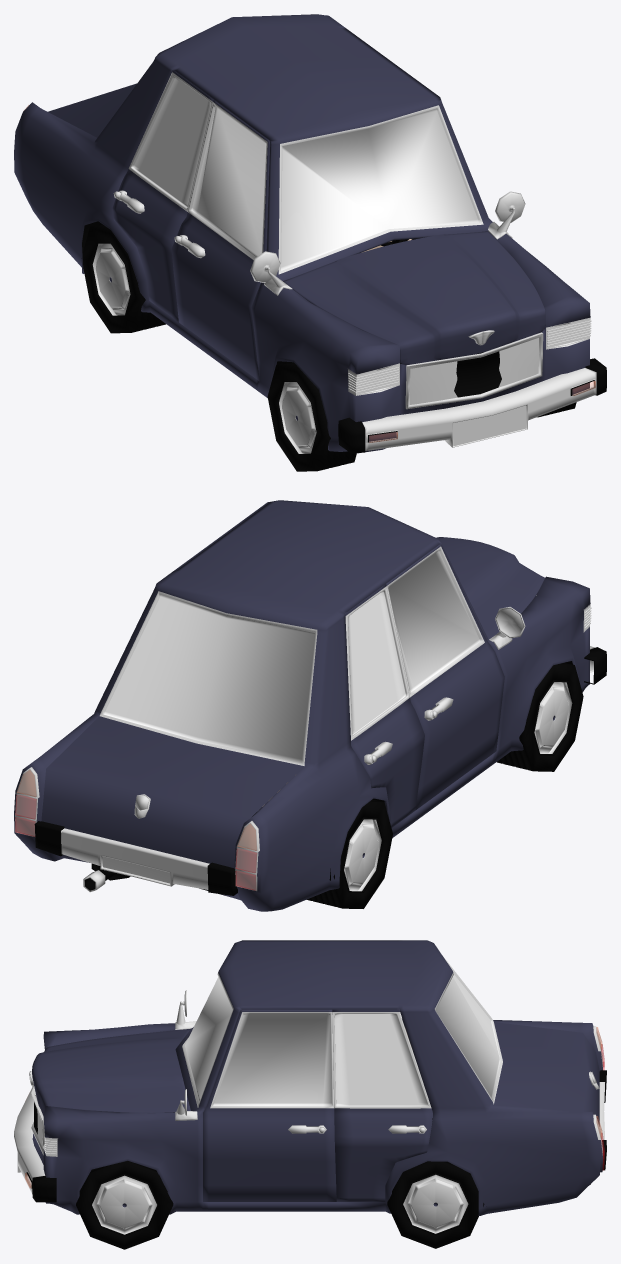
File: car.glb
3 views of the same model, one above another, from view 1: azimuth 30°, elevation 25°; view 2: azimuth 150°, elevation 25°; view 3: azimuth 270°, elevation 25° (orthographic). The views are drawn at different scales.
Visible parts, largest first — view 1: chasis, motor, front door, back door, f. bumper, wheel 1, wheel 1.001, radiadotr, mirror, door.001, glass light, Plate; view 2: chasis, door.001, front door, back door, bumper, motor, wheel 1, wheel 1.001, backlihght, mirror, plate back, escape (+1 smaller); view 3: chasis, front door, back door, door.001, motor, wheel 1, wheel 1.001, f. bumper, mirror, bumper.
Part boxes in pixels (x1=…): chasis: x1=14, y1=14, x2=590, y2=453; motor: x1=283, y1=231, x2=545, y2=365; front door: x1=171, y1=100, x2=269, y2=381; back door: x1=112, y1=70, x2=213, y2=322; f. bumper: x1=338, y1=358, x2=606, y2=453; wheel 1: x1=267, y1=362, x2=576, y2=471; wheel 1.001: x1=81, y1=223, x2=165, y2=333; radiadotr: x1=409, y1=338, x2=539, y2=404; mirror: x1=250, y1=191, x2=525, y2=295; door.001: x1=48, y1=83, x2=136, y2=137; glass light: x1=348, y1=318, x2=591, y2=394; Plate: x1=454, y1=406, x2=526, y2=445; chasis: x1=14, y1=500, x2=590, y2=911; door.001: x1=41, y1=591, x2=317, y2=867; front door: x1=386, y1=544, x2=504, y2=809; back door: x1=345, y1=584, x2=424, y2=827; bumper: x1=34, y1=821, x2=237, y2=895; motor: x1=436, y1=537, x2=544, y2=639; wheel 1: x1=497, y1=662, x2=583, y2=771; wheel 1.001: x1=307, y1=799, x2=392, y2=908; backlihght: x1=15, y1=770, x2=256, y2=890; mirror: x1=489, y1=607, x2=525, y2=649; plate back: x1=102, y1=856, x2=170, y2=883; escape: x1=83, y1=863, x2=130, y2=892; chasis: x1=31, y1=940, x2=602, y2=1215; front door: x1=203, y1=1009, x2=336, y2=1201; back door: x1=332, y1=1009, x2=432, y2=1201; door.001: x1=435, y1=956, x2=599, y2=1126; motor: x1=32, y1=1028, x2=190, y2=1115; wheel 1: x1=76, y1=1161, x2=173, y2=1249; wheel 1.001: x1=387, y1=1161, x2=484, y2=1248; f. bumper: x1=14, y1=1085, x2=56, y2=1202; mirror: x1=175, y1=990, x2=197, y2=1120; bumper: x1=599, y1=1070, x2=606, y2=1170.
Size of the model in its own units: 1.93 by 1.89 by 4.36.
